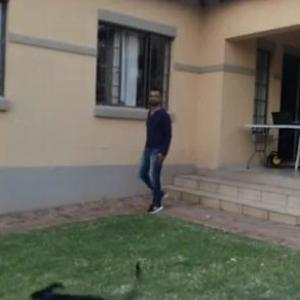follow: (139, 93, 164, 185)
